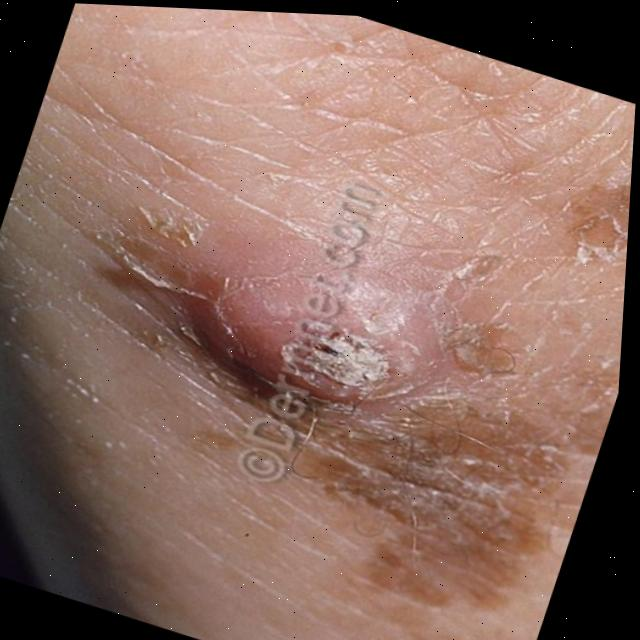Eczema: (87, 128, 633, 614)
